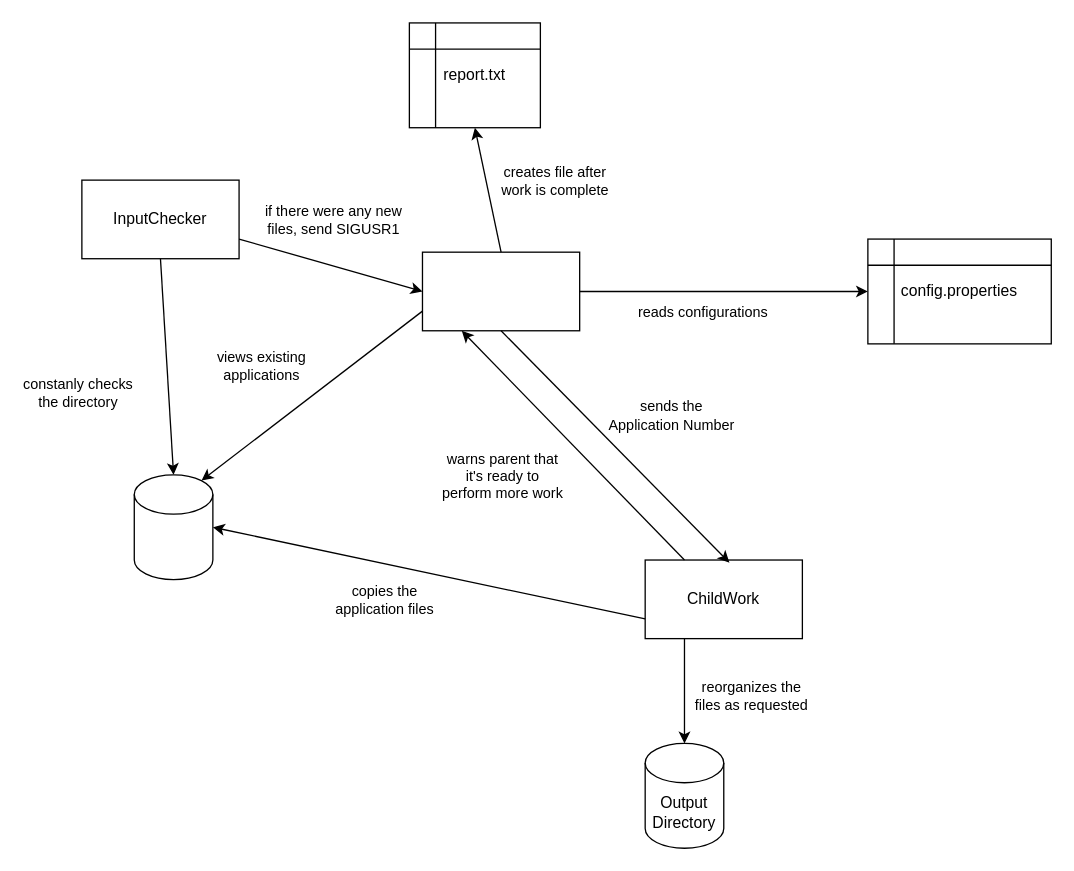
Some shapes in this 1074 by 871 pixel diagram are drawn without their labels. The shapes that lost their labels are listed below. From the top down, each one's centre as x and y in pixels, then its label:
At (x=500, y=291): "FileProcessor (parent process)".
At (x=173, y=527): "Input Directory".
